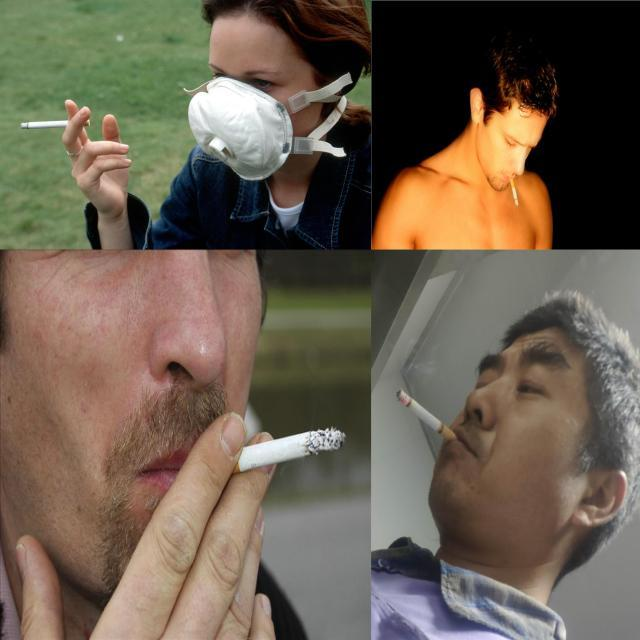smoking: (205, 421, 349, 476), (396, 388, 458, 442), (20, 118, 90, 130), (510, 177, 520, 206)
